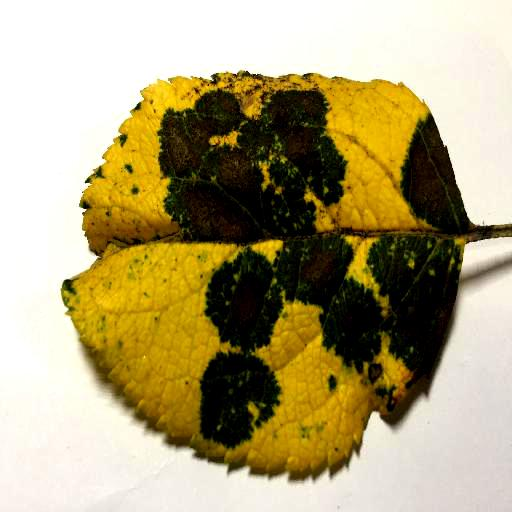Brown_Spot: (171, 111, 314, 230), (401, 265, 456, 340), (414, 148, 467, 220), (219, 282, 268, 340), (293, 246, 341, 293)
